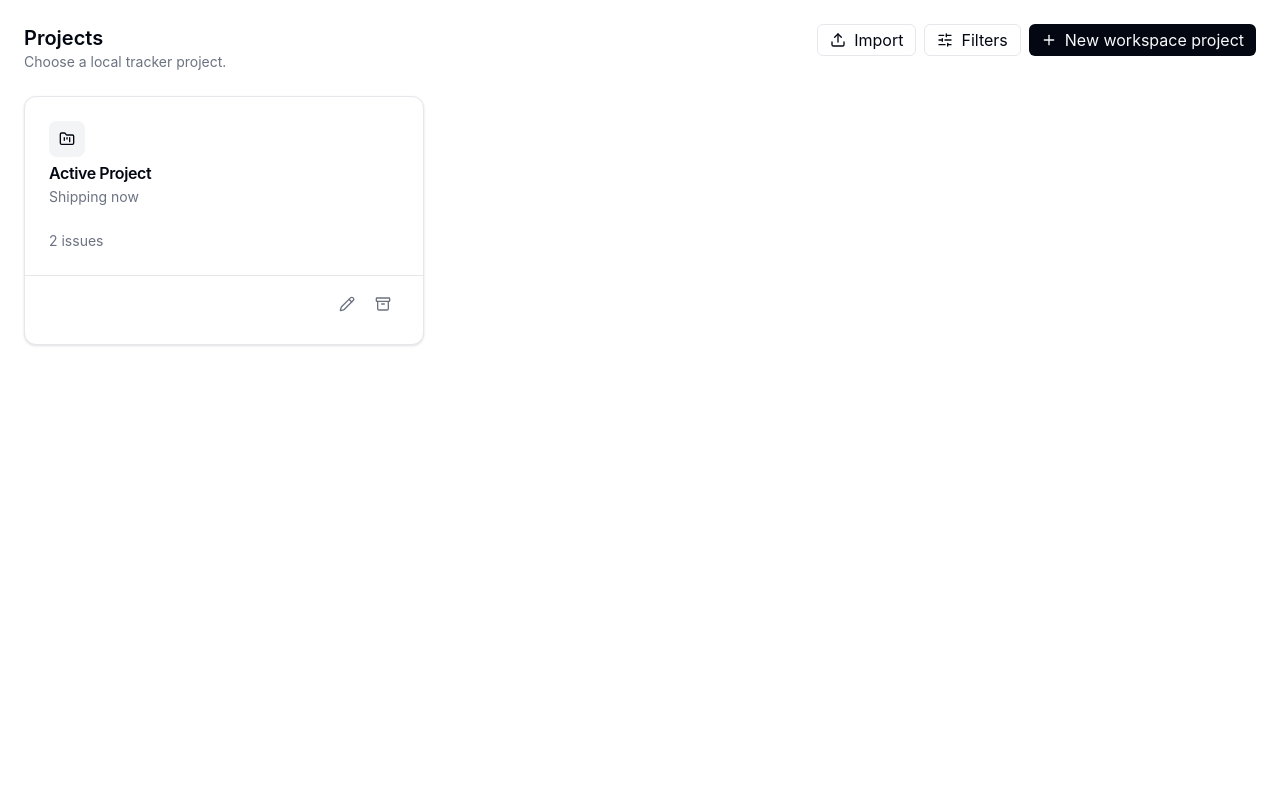
ProjectListPage › opens and closes project filters as a lateral modal without the gradient background
Check: the heading "Active Project" is shown, box x1=49 y1=163 x2=151 y2=183
Check: the text "Project focus" is not shown
What coordinates should you click on to do the following:
click the button "Filters"
I would click on:
 (973, 40)
Its box is x1=924 y1=24 x2=1021 y2=56.
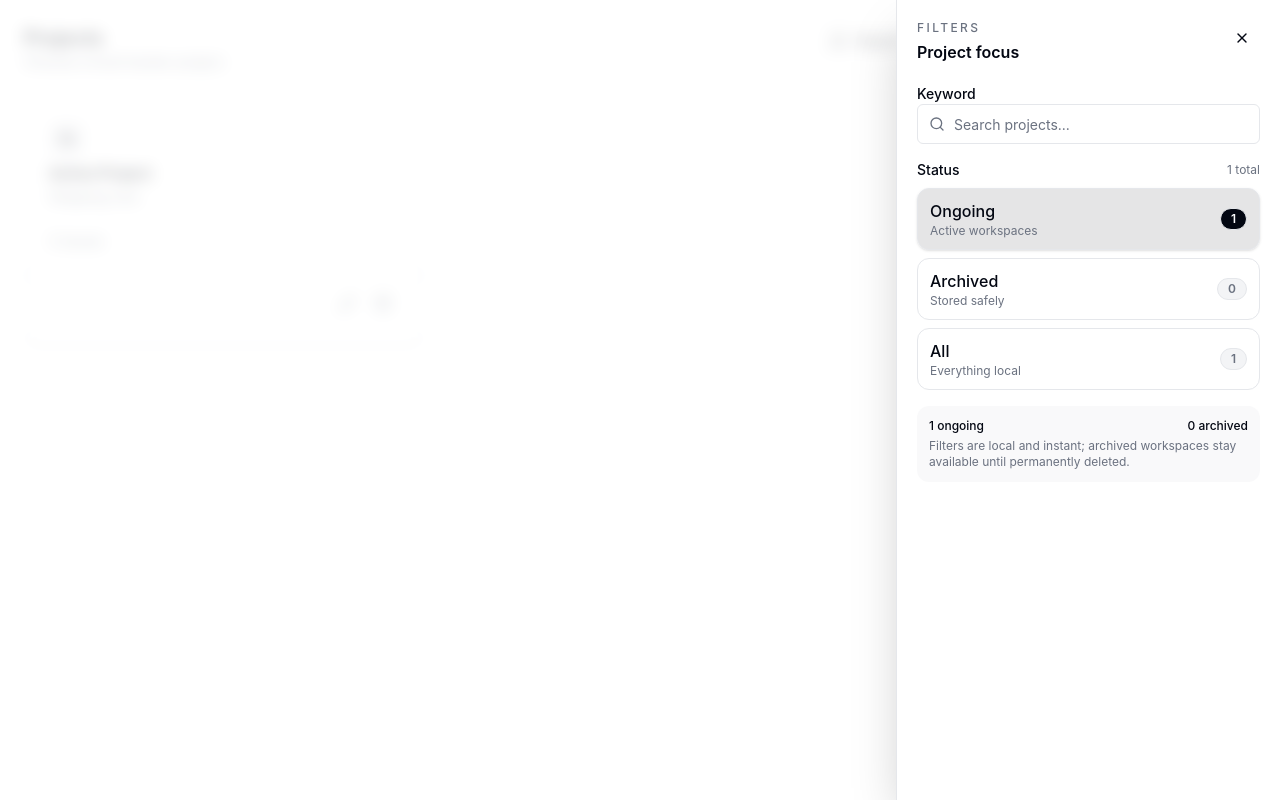
Check: the heading "Project focus" is shown, box x1=917 y1=40 x2=1019 y2=64
What coordinates should you click on to do the following:
click the button named "Close filters"
I would click on:
 (1242, 38)
Its box is x1=1224 y1=20 x2=1260 y2=56.
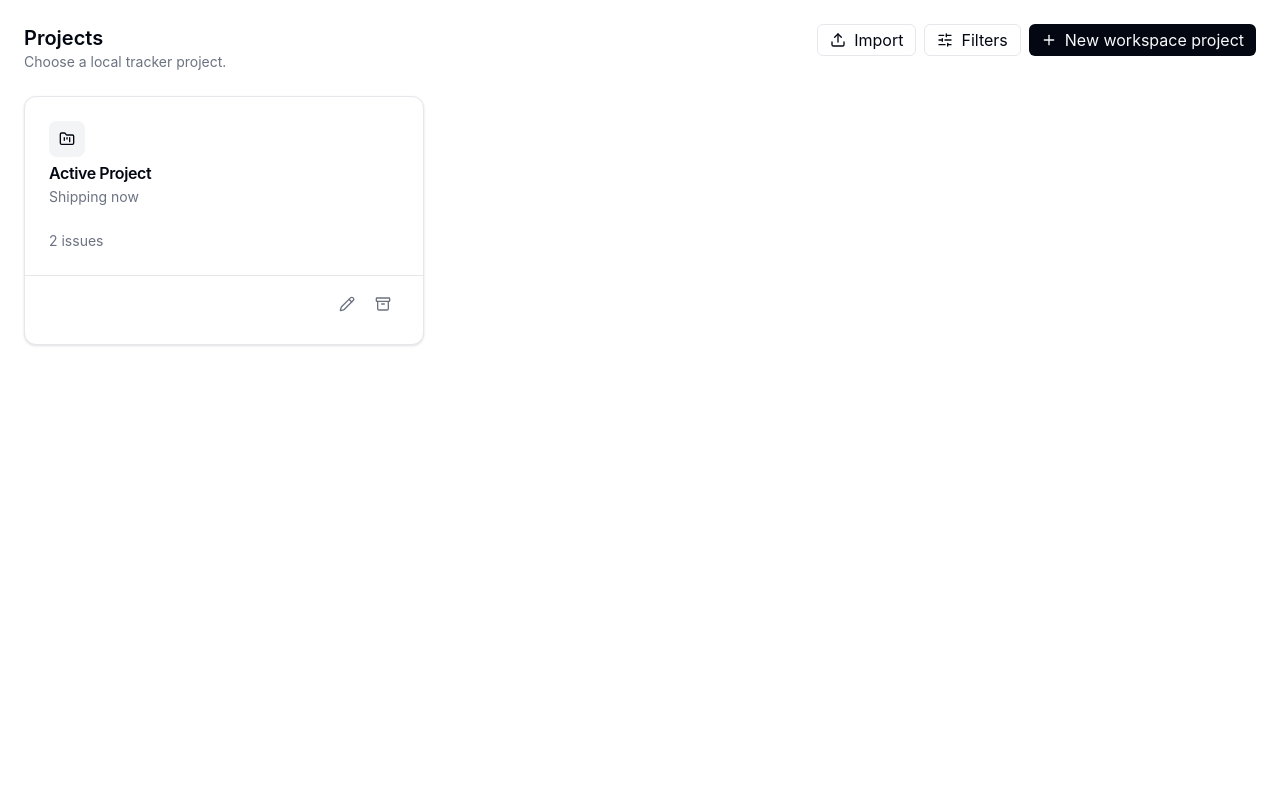
Check: the heading "Project focus" is gone
